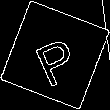P_NW: (28, 24, 82, 86)
